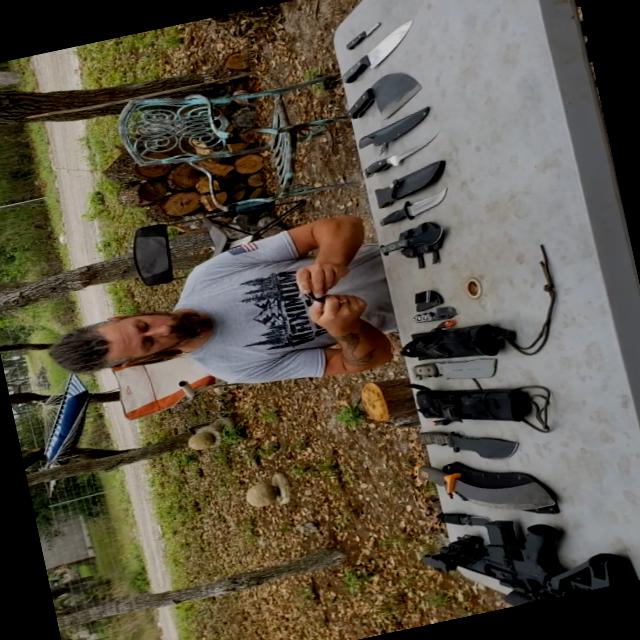knife: (396, 428, 580, 544), (384, 330, 516, 398), (313, 68, 435, 134), (332, 5, 434, 79), (406, 410, 514, 474), (335, 128, 444, 190), (358, 218, 458, 272), (362, 185, 459, 232), (278, 264, 354, 322), (392, 292, 480, 342), (422, 493, 495, 546), (344, 13, 386, 50)
long weapon: (416, 483, 639, 622)
